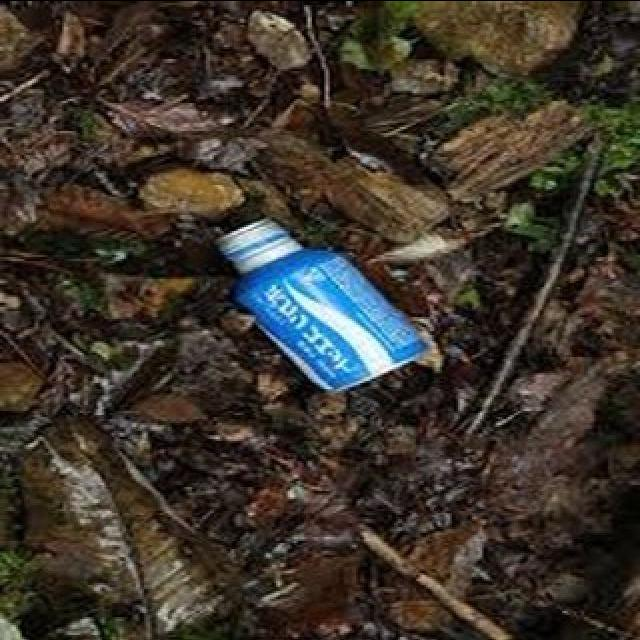can: (218, 218, 427, 394)
